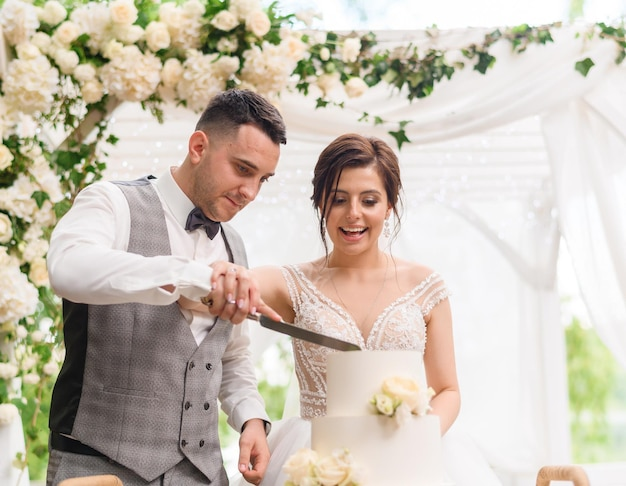knife: (248, 310, 361, 354)
